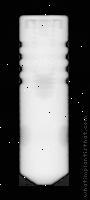Keystone Dental: (19, 15, 69, 186)
